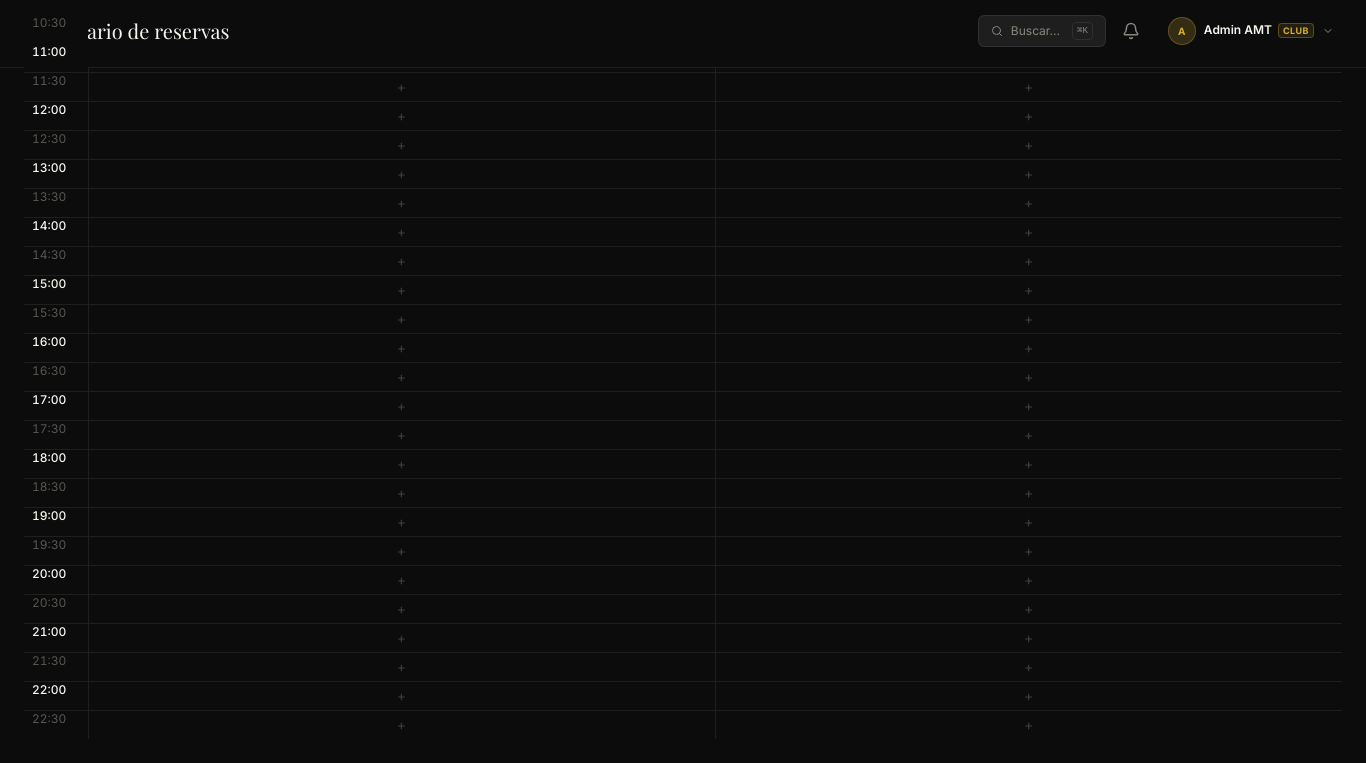
Scenario: Calendario de reservas — vista Día › si a esa hora no cabe la duración, el alta lo dice en vez de dejar la hora en blanco
The image size is (1366, 763).
(page scrolled)
Click the button named "Crear reserva en Pista 2 a las 22:30" at (1029, 725), box [716,711,1342,739]
(page scrolled)
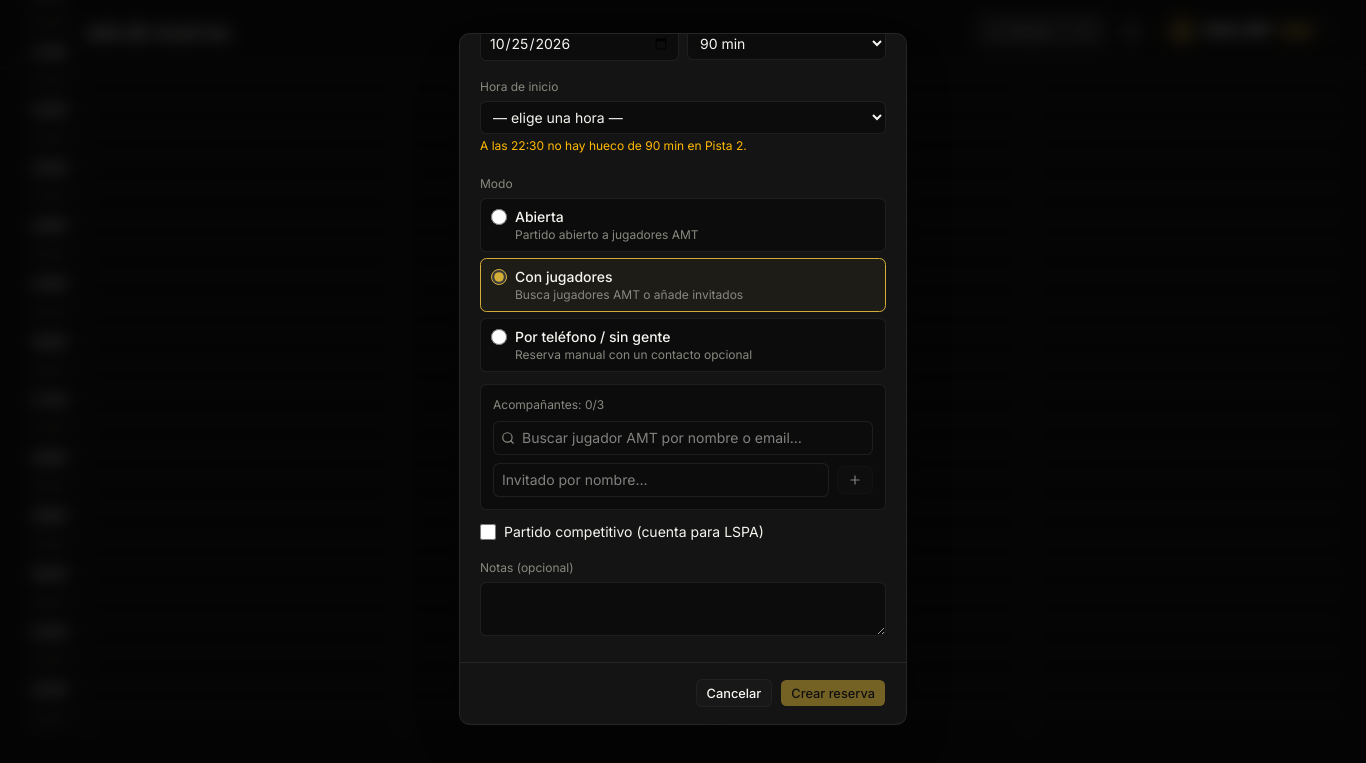
Check: the message reads "A las 22:30 no hay hueco de 90 min en Pista 2.", box [480,138,747,153]
Check: the dropdown showing "— elige una hora —" is shown, box [480,101,886,134]
Check: the button "Crear reserva" is disabled, box [780,679,886,707]
